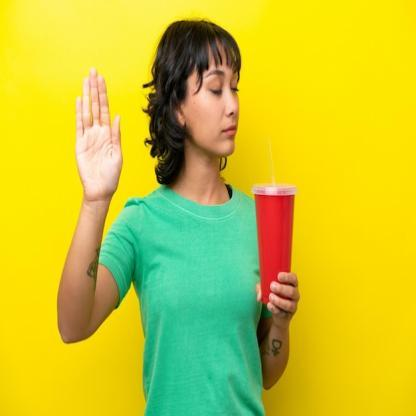stop: (70, 61, 127, 204)
